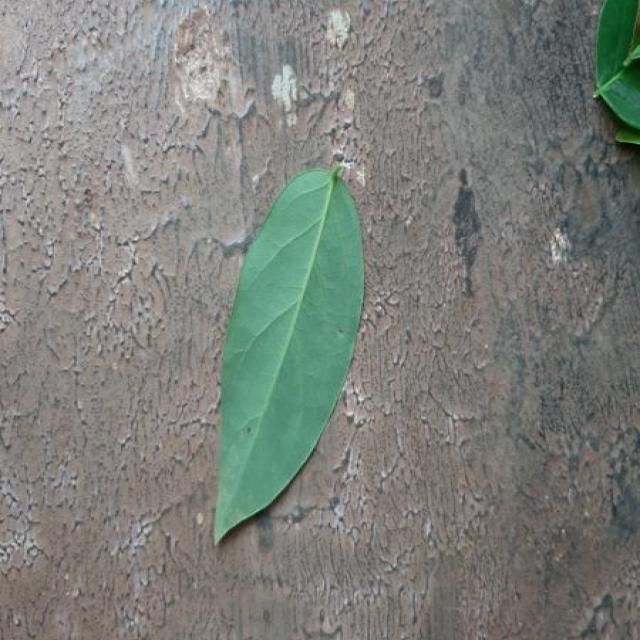amla: (213, 166, 363, 542)
